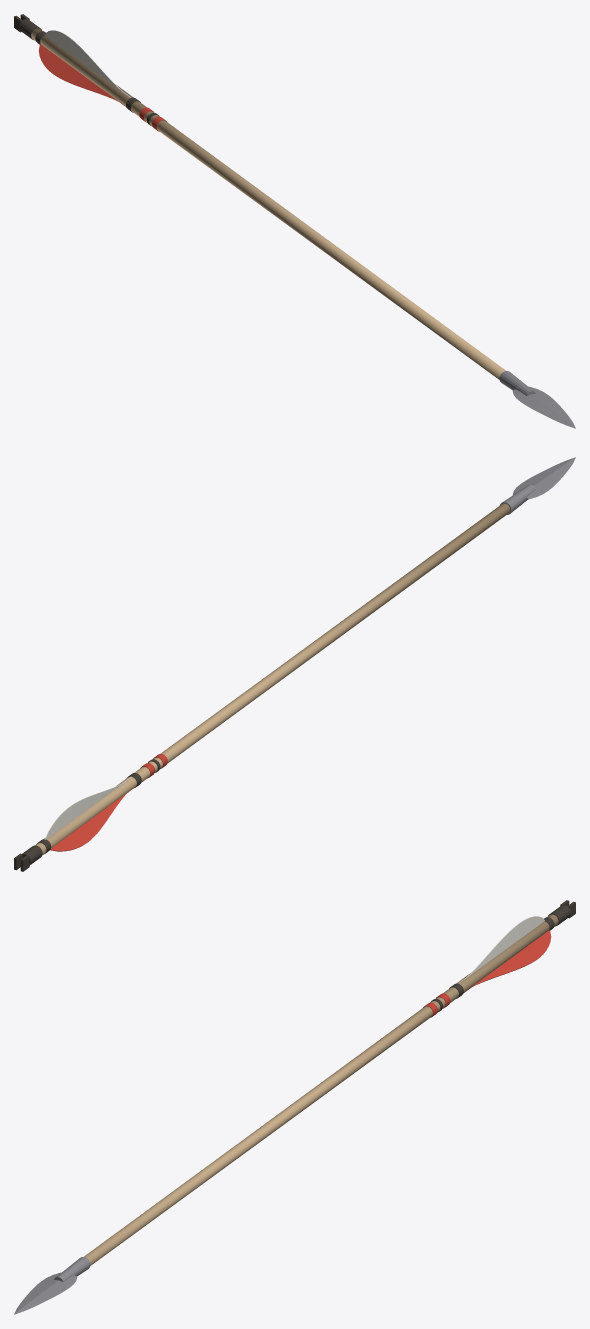
The model's file is Arrow.fbx.
3 views of the same model, one above another, from view 1: azimuth 30°, elevation 25°; view 2: azimuth 150°, elevation 25°; view 3: azimuth 330°, elevation 25° (orthographic).
Visible parts, largest first — view 1: Arrow_LOD0; view 2: Arrow_LOD0; view 3: Arrow_LOD0.
Part boxes in pixels (x1,y1,x2,y2): Arrow_LOD0: (14,14,575,428); Arrow_LOD0: (14,457,575,871); Arrow_LOD0: (14,900,575,1314).
Size of what is drawn, in the model's own units: 0.0275 by 0.0241 by 0.7503.
